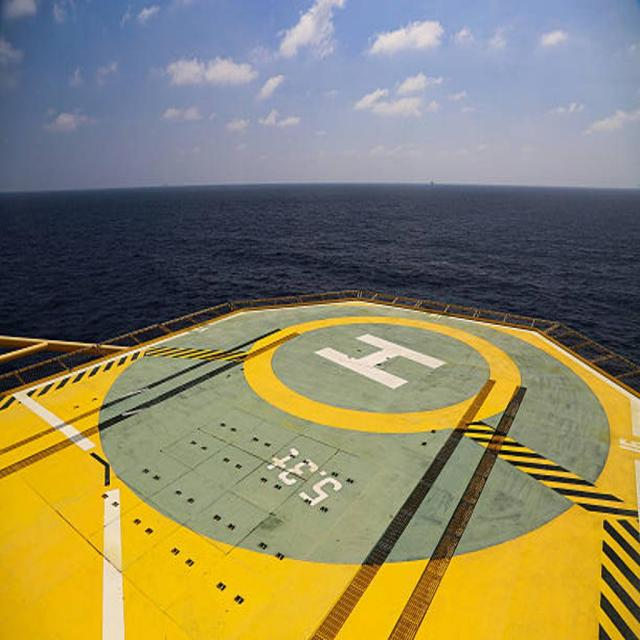helipad: (241, 314, 520, 432)
